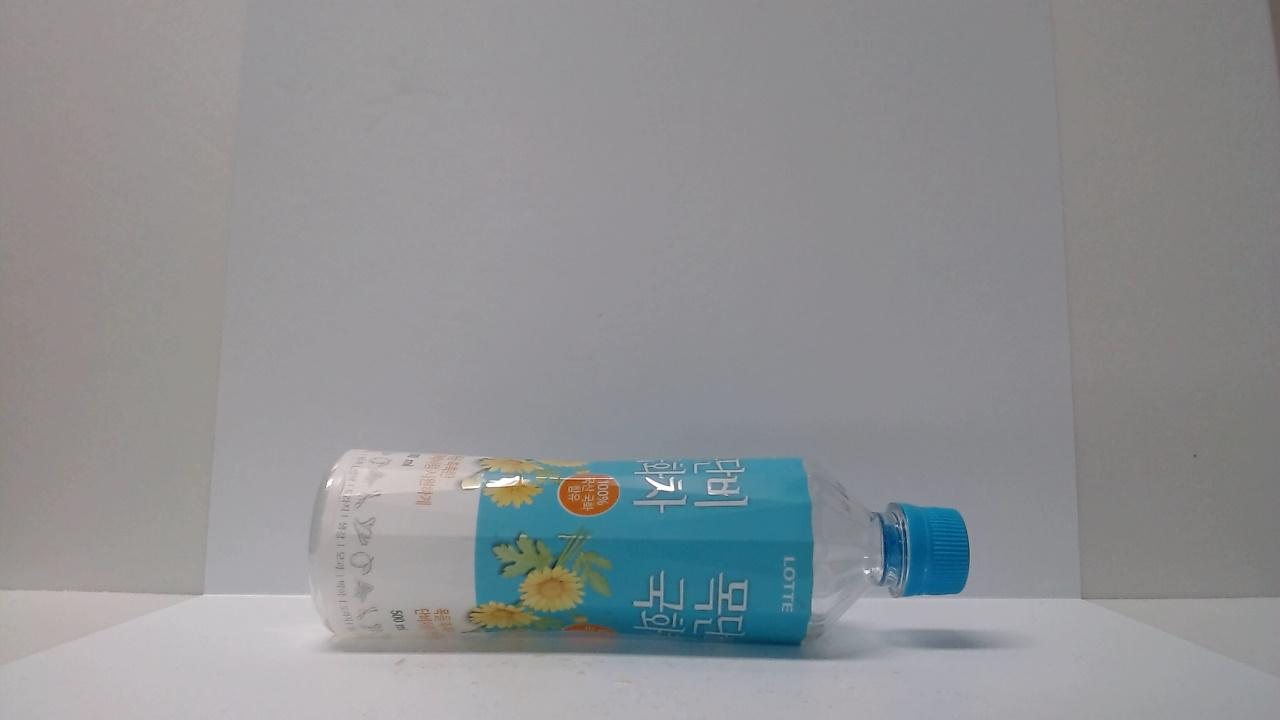bottle: (167, 418, 881, 673)
